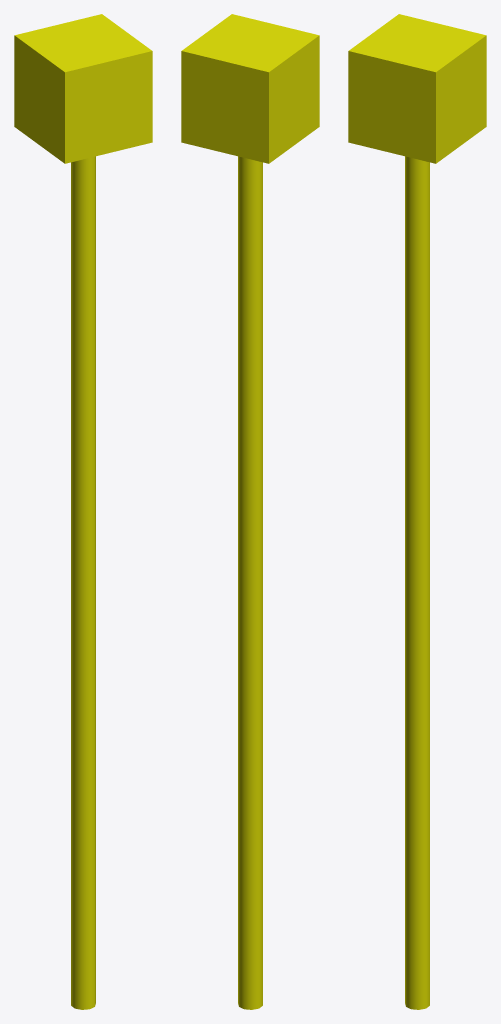
The model's file is Gizmo_Cube_line_Y.fbx.
The picture shows the model from 3 angles, left to right: view 1: azimuth 30°, elevation 25°; view 2: azimuth 150°, elevation 25°; view 3: azimuth 330°, elevation 25°; orthographic projection.
Visible parts, largest first — view 1: Gizmo_cube_Line_Y; view 2: Gizmo_cube_Line_Y; view 3: Gizmo_cube_Line_Y.
Part boxes in pixels (bbox=[...]): Gizmo_cube_Line_Y: bbox=[14, 14, 152, 1009]; Gizmo_cube_Line_Y: bbox=[181, 14, 319, 1009]; Gizmo_cube_Line_Y: bbox=[348, 14, 486, 1009].
Size of the model in its own units: 2 by 21 by 2.
